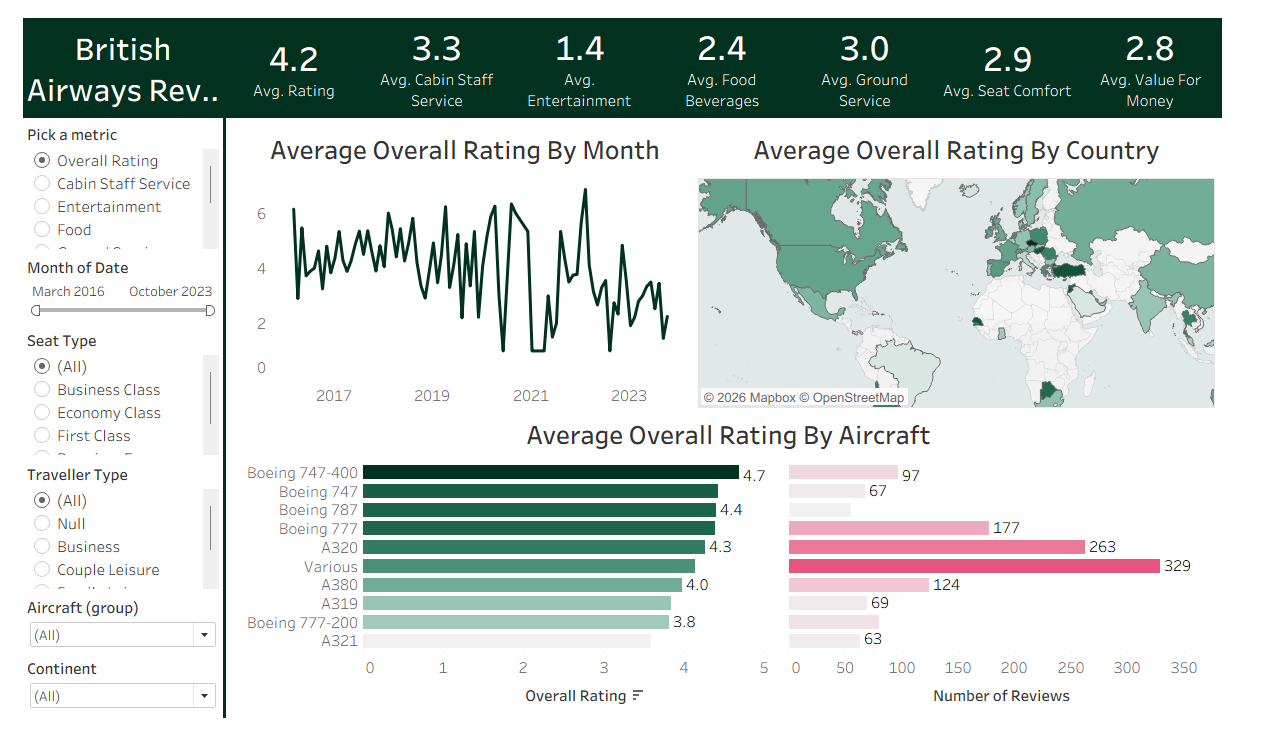

What the dashboard file says about the page in this screenshot:
{"tool":"tableau","page":{"name":"Dashboard 1","canvas":[1200,700],"ordinal":0},"visuals":[{"type":"text","box":[0,0,200,100]},{"type":"worksheet","title":"summary","mark":"Automatic","box":[200,0,999,100]},{"type":"blank","box":[200,100,3,600]},{"type":"parameter","param":"[Parameters].[Parameter 1]","box":[0,102,200,133.3]},{"type":"worksheet","title":"Month","mark":"Automatic","rows":["Calculation_467529988195790848"],"cols":["date"],"box":[220,110,444,280]},{"type":"worksheet","title":"Map","mark":"Automatic","box":[675,110,517,280]},{"type":"filter","title":"Map","param":"[federated.1pcnwoo1g4pvph10ksfk00hadk1e].[tmn:date:qk]","box":[0,235.3,200,73]},{"type":"filter","title":"Map","param":"[federated.1pcnwoo1g4pvph10ksfk00hadk1e].[none:seat_type:nk]","box":[0,308.3,200,133.3]},{"type":"worksheet","title":"Aircraft","mark":"Automatic","cols":["Calculation_467529988195790848","ba_reviews.csv_693B5AD7C0CC43C9AB5E245D8FB67E5F"],"box":[220,395,971,300]},{"type":"filter","title":"Map","param":"[federated.1pcnwoo1g4pvph10ksfk00hadk1e].[none:traveller_type:nk]","box":[0,441.7,200,133.3]},{"type":"filter","title":"Map","param":"[federated.1pcnwoo1g4pvph10ksfk00hadk1e].[Aircraft (group)]","box":[0,575,200,61]},{"type":"filter","title":"Map","param":"[federated.1pcnwoo1g4pvph10ksfk00hadk1e].[none:Continent:nk]","box":[0,636,200,61]}]}

Visuals, with their boxes in screenshot pixels (x1, y1, x2, y2), scaled from the page's 1200x700 canvas onto the 1271x741 screenshot:
text: {"x1": 0, "y1": 0, "x2": 212, "y2": 106}
"summary" worksheet: {"x1": 212, "y1": 0, "x2": 1270, "y2": 106}
blank: {"x1": 212, "y1": 106, "x2": 215, "y2": 740}
parameter: {"x1": 0, "y1": 108, "x2": 212, "y2": 249}
"Month" worksheet: {"x1": 233, "y1": 116, "x2": 703, "y2": 413}
"Map" worksheet: {"x1": 715, "y1": 116, "x2": 1263, "y2": 413}
"Map" filter: {"x1": 0, "y1": 249, "x2": 212, "y2": 326}
"Map" filter: {"x1": 0, "y1": 326, "x2": 212, "y2": 467}
"Aircraft" worksheet: {"x1": 233, "y1": 418, "x2": 1261, "y2": 736}
"Map" filter: {"x1": 0, "y1": 468, "x2": 212, "y2": 609}
"Map" filter: {"x1": 0, "y1": 609, "x2": 212, "y2": 673}
"Map" filter: {"x1": 0, "y1": 673, "x2": 212, "y2": 738}
